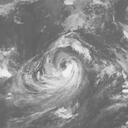cyclone: (13, 37, 89, 103)
